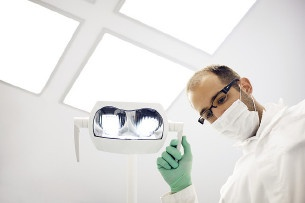Mask: (200, 89, 251, 141)
